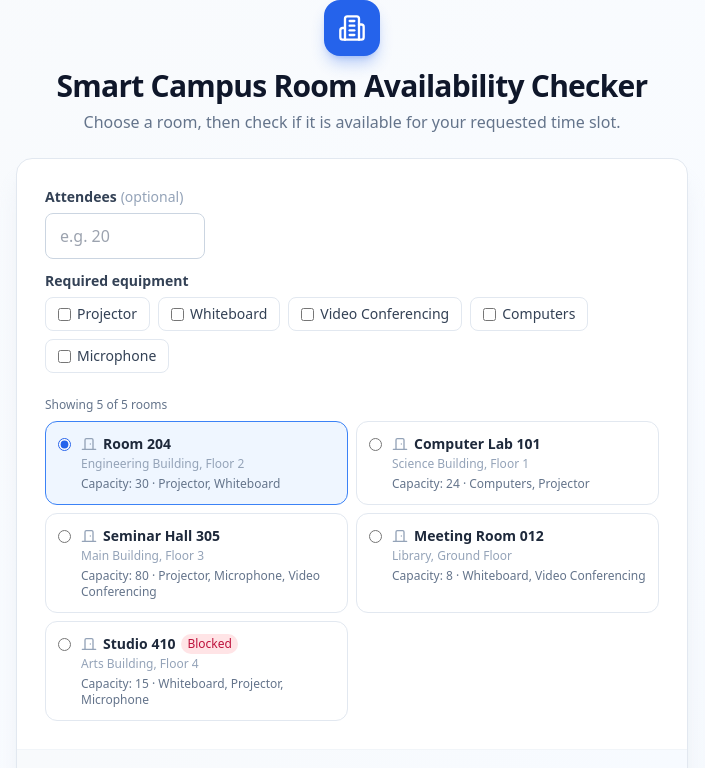
Scenario: RoomChecker UI › F4 via UI: shows an empty state when no room matches
In the number field labelled "Attendees(optional)": (125, 236) [45,213,205,259], type "81"
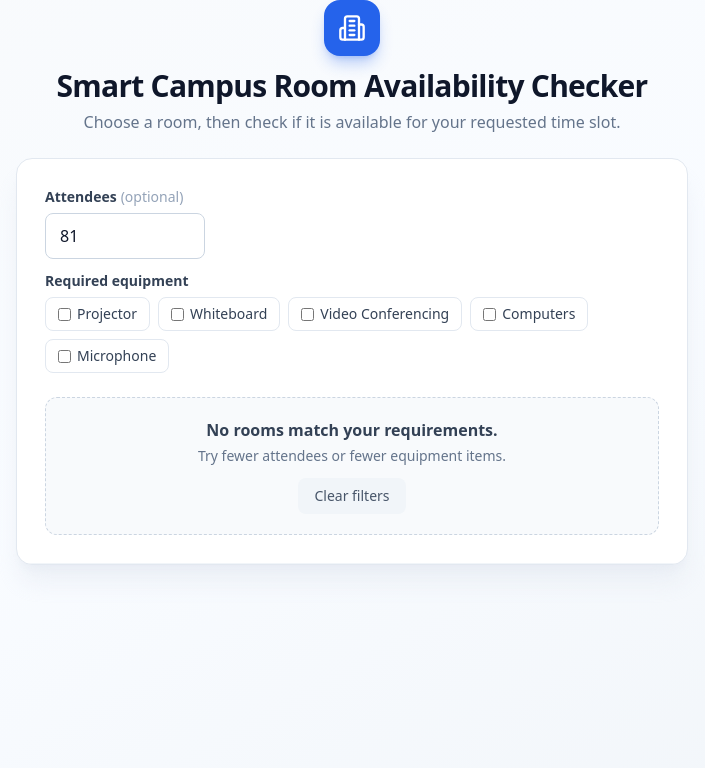
Expected: no radio buttons are shown
Expected: the element with test id "empty-state" shows "No rooms match your requirements.", [206,419,498,441]
